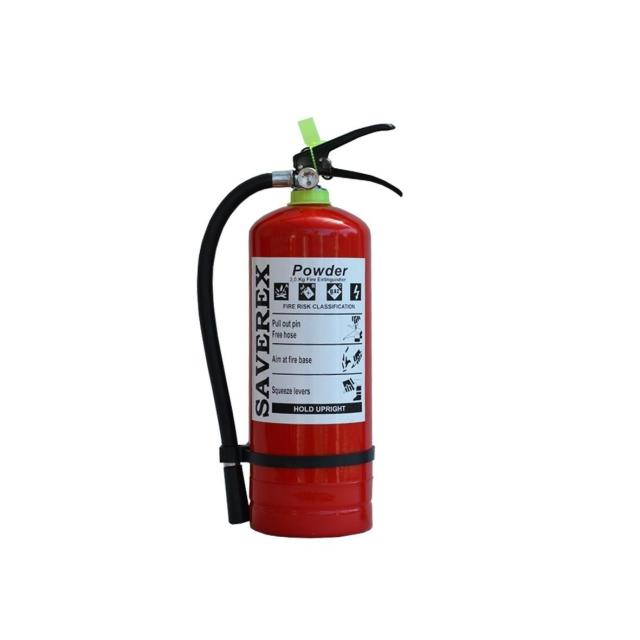fire_extinguisher: (191, 111, 406, 544)
